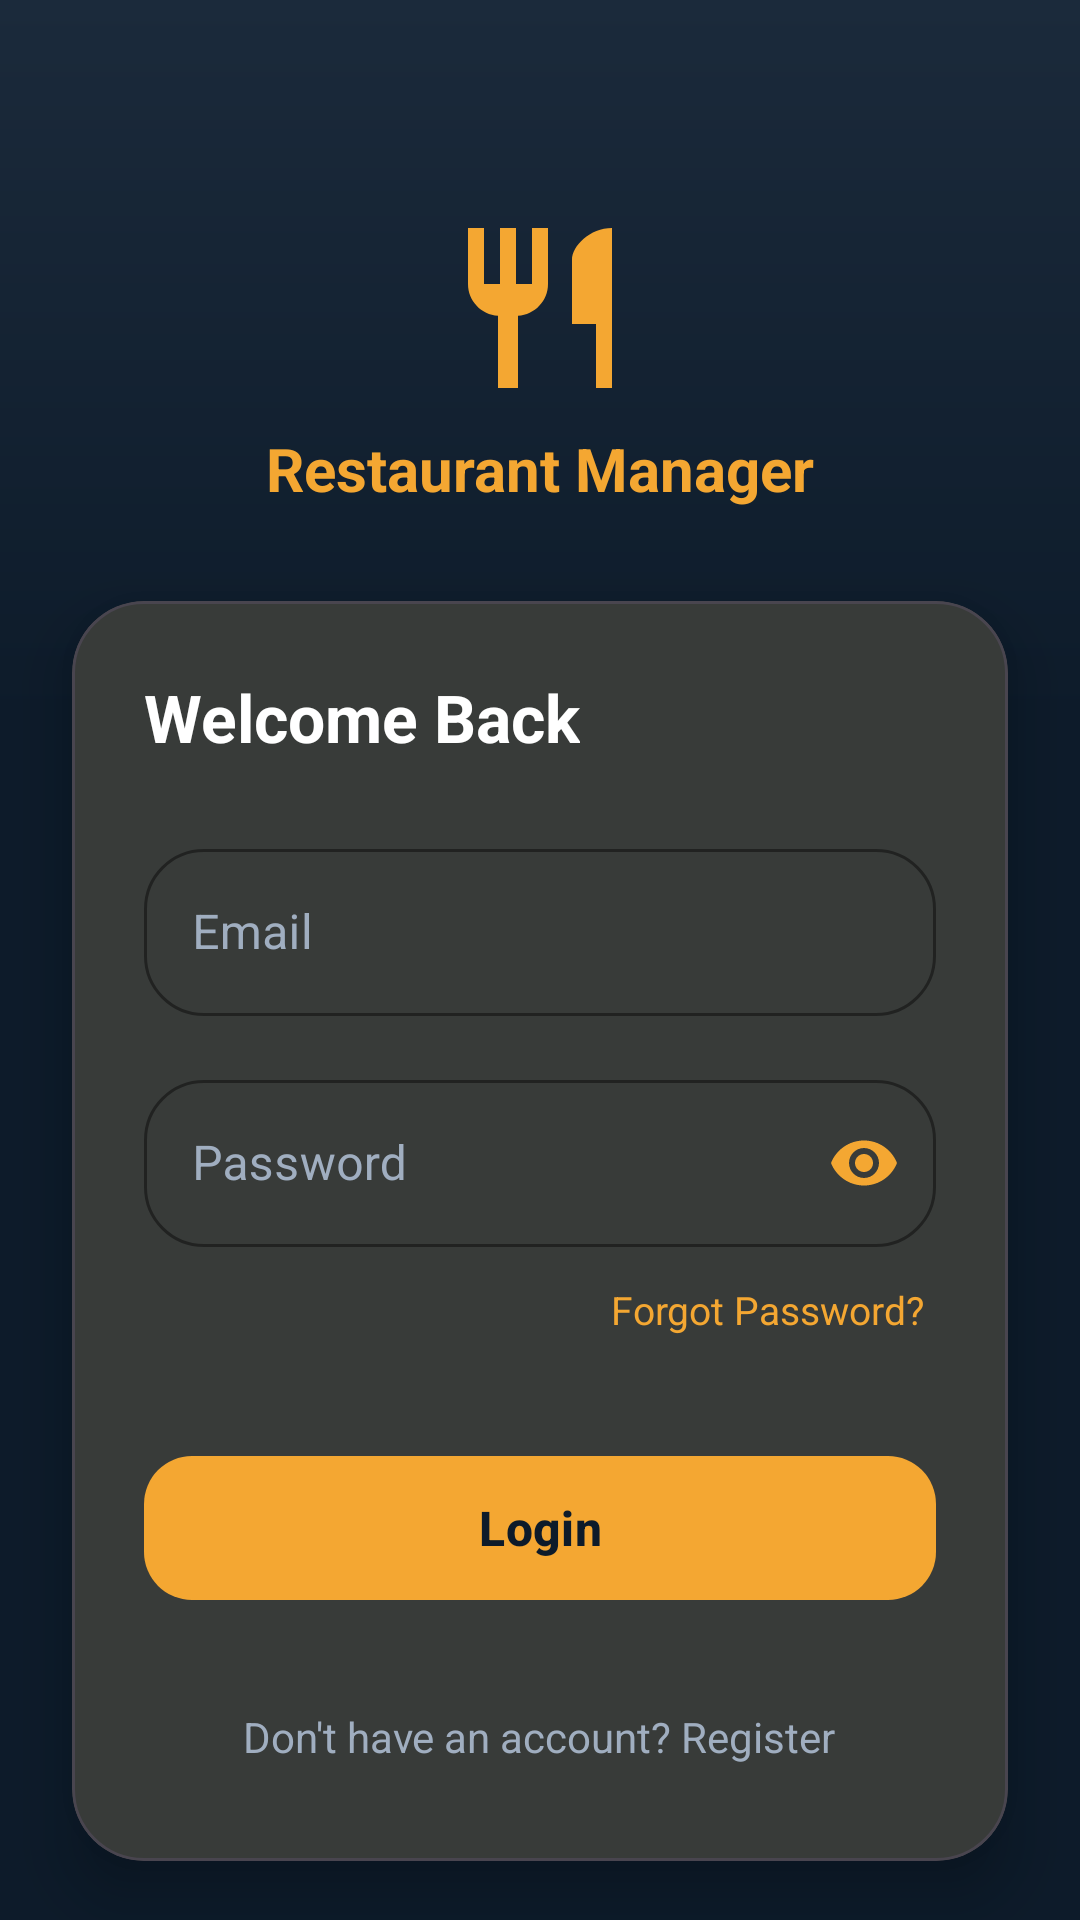

Named icons in this screenshot (1080 × 1920) and their bounding boxes, (left=x1, top=y1, right=x2, bottom=y2):
fork knife: (left=468, top=228, right=612, bottom=388)
